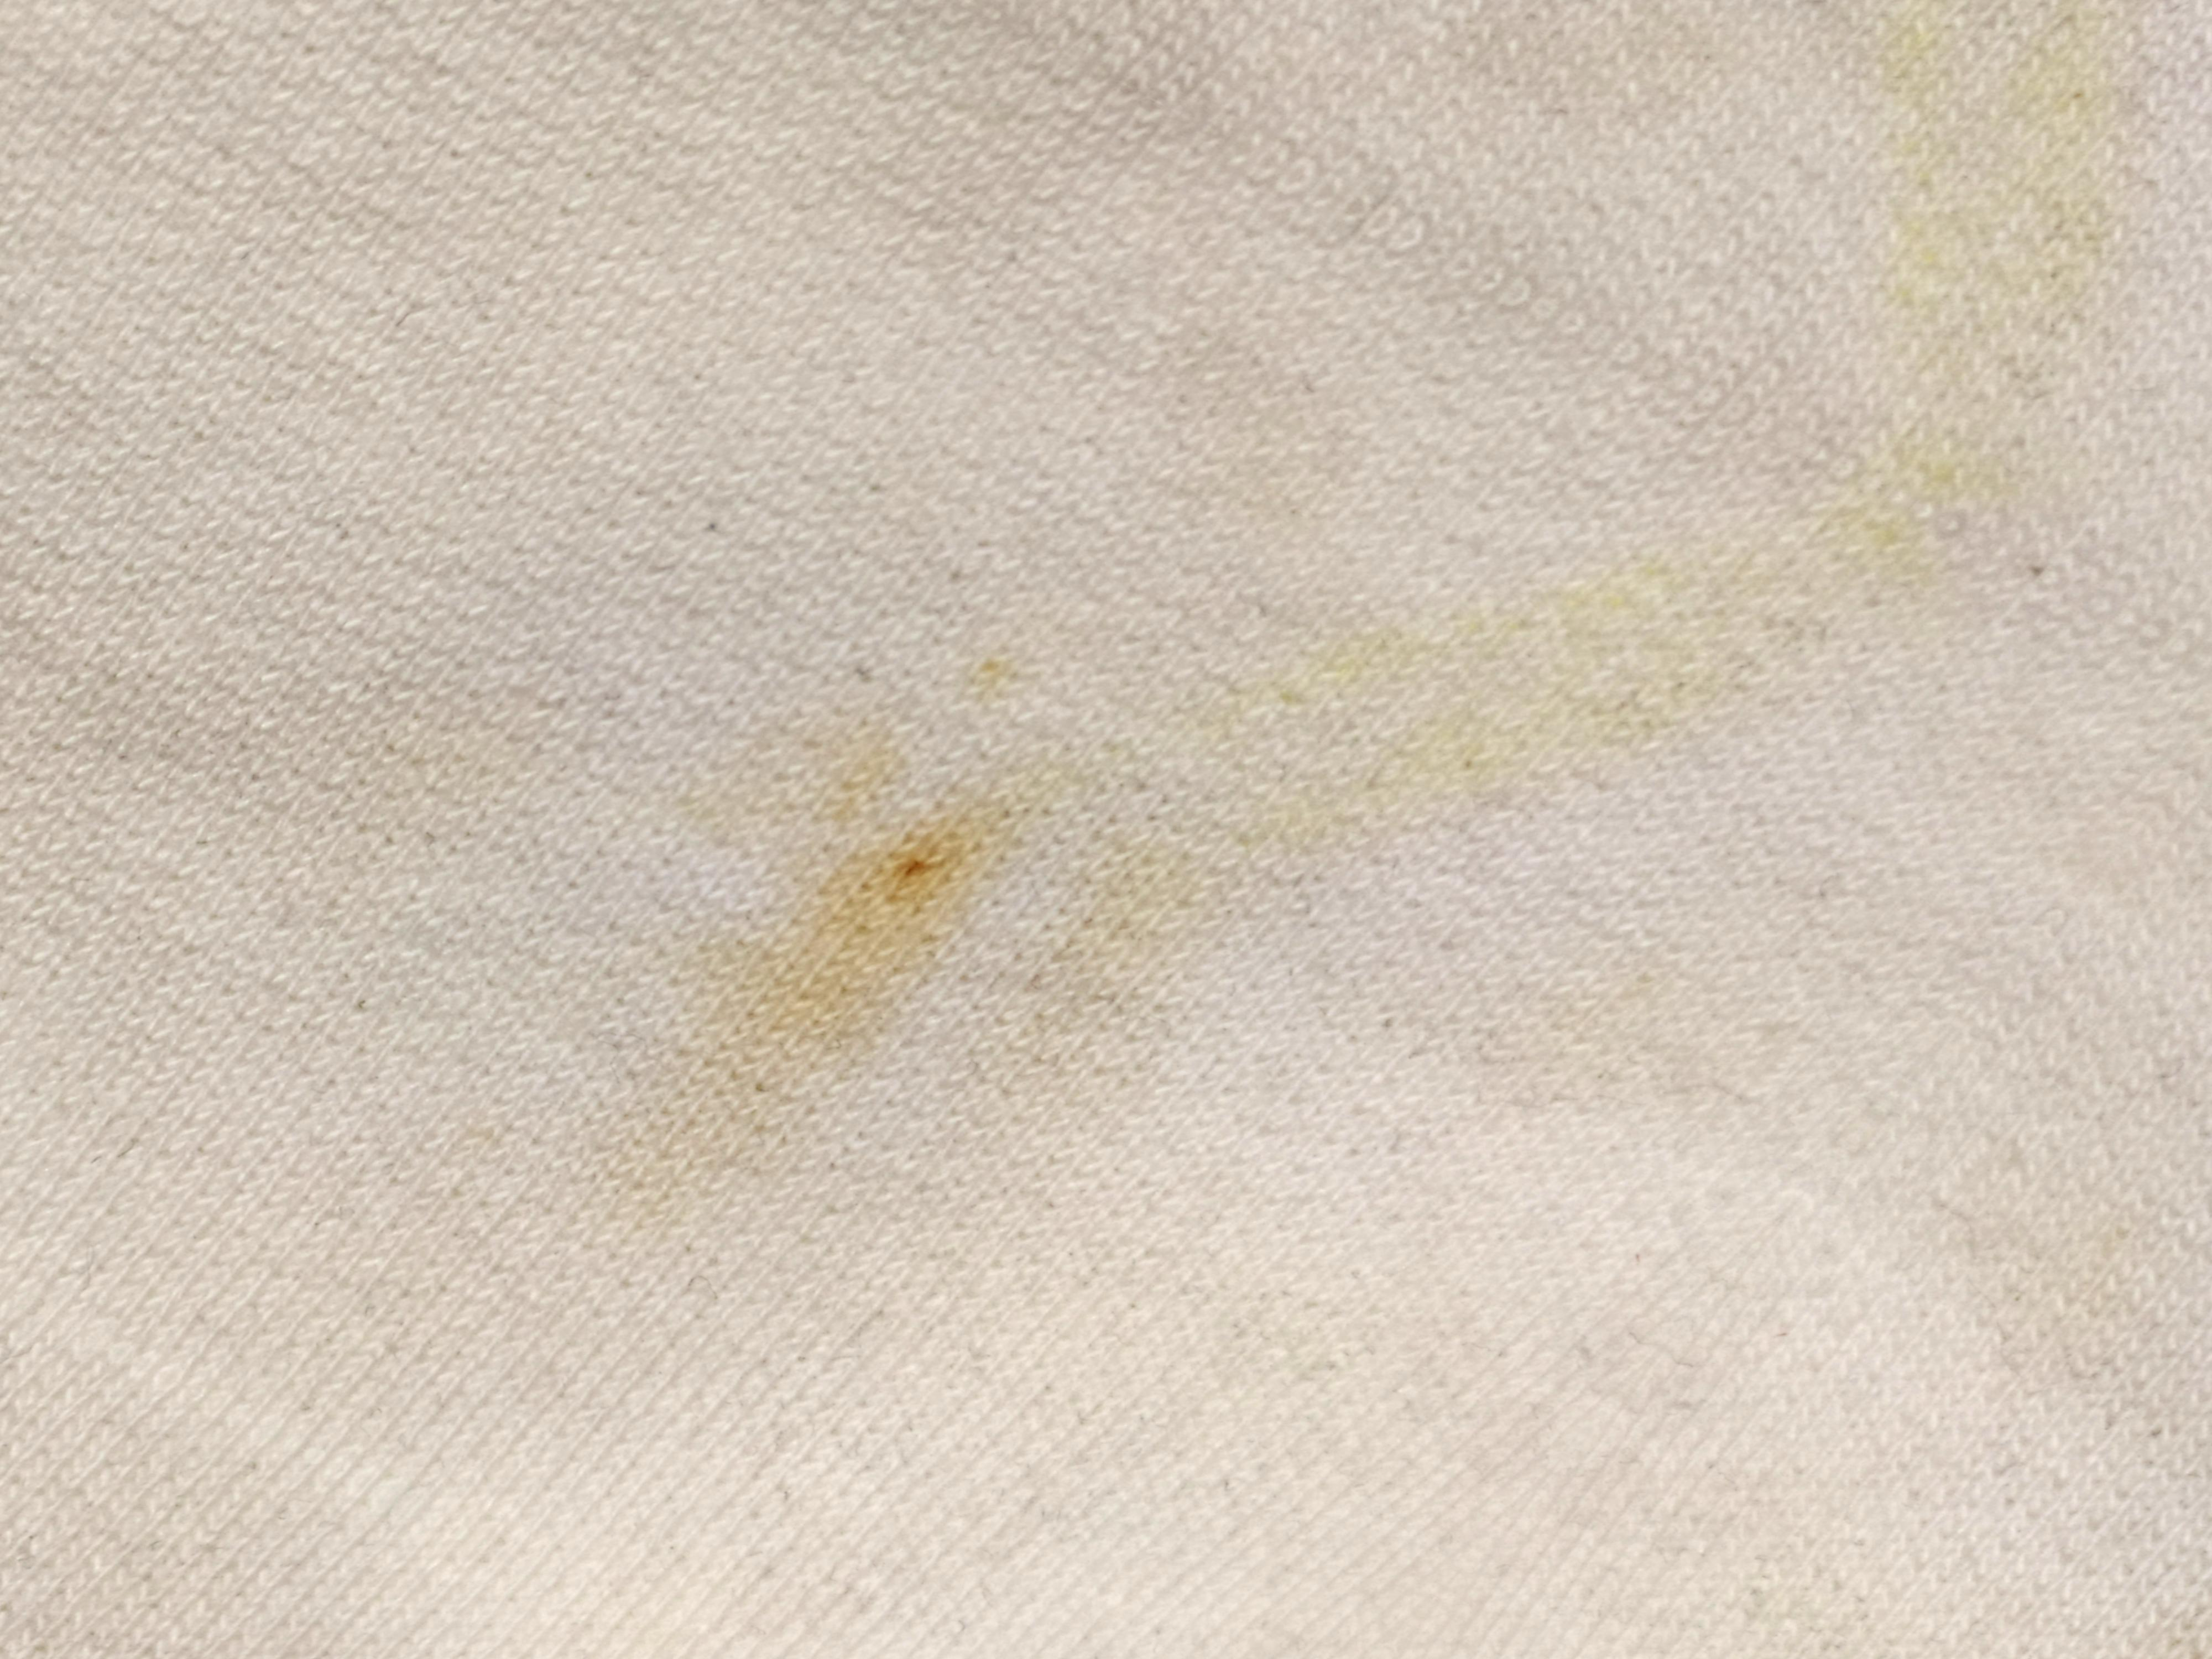stain: (705, 786, 1005, 1087)
